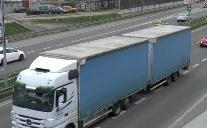Car: (0, 46, 25, 65), (176, 12, 191, 24), (199, 35, 207, 47)
Truck: (10, 24, 192, 128)
